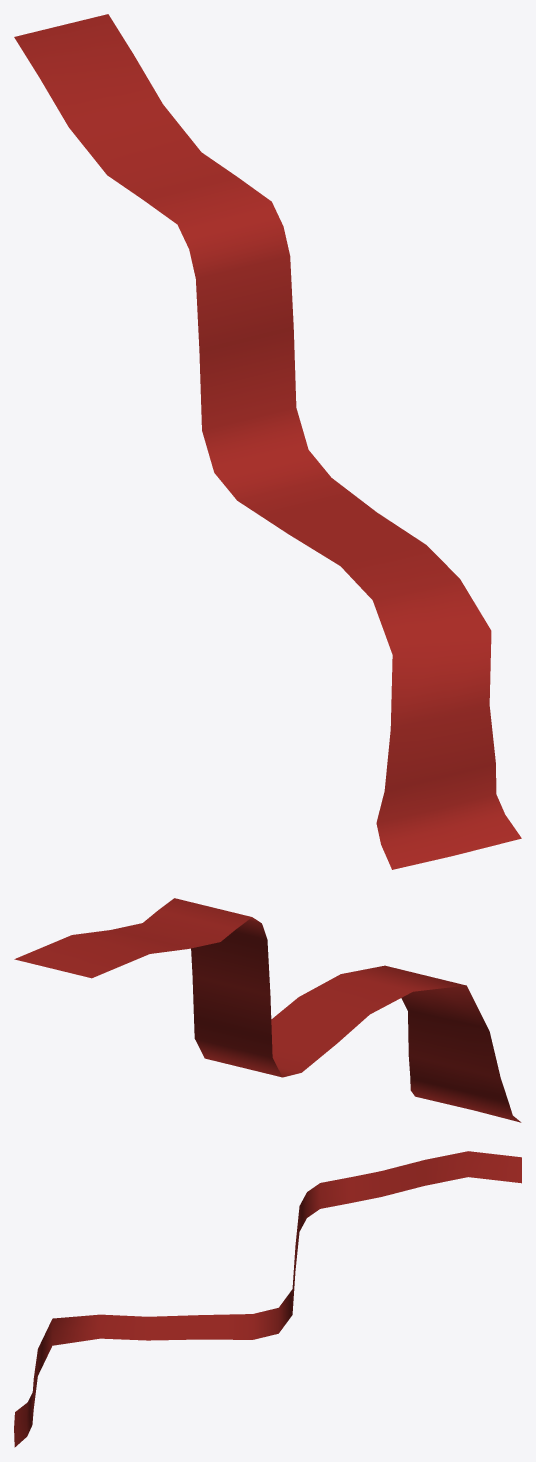
File: Lava_02.FBX
3 views of the same model, one above another, from view 1: azimuth 30°, elevation 25°; view 2: azimuth 150°, elevation 25°; view 3: azimuth 270°, elevation 25° (orthographic). The views are drawn at different scales.
Visible parts, largest first — view 1: Lava_02; view 2: Lava_02; view 3: Lava_02.
Boxes of the visible parts, x1,y1,x2,y2 form: Lava_02: [14, 14, 521, 869]; Lava_02: [14, 898, 521, 1122]; Lava_02: [14, 1151, 521, 1447].
Size of the model in its own units: 68.15 by 191 by 321.
